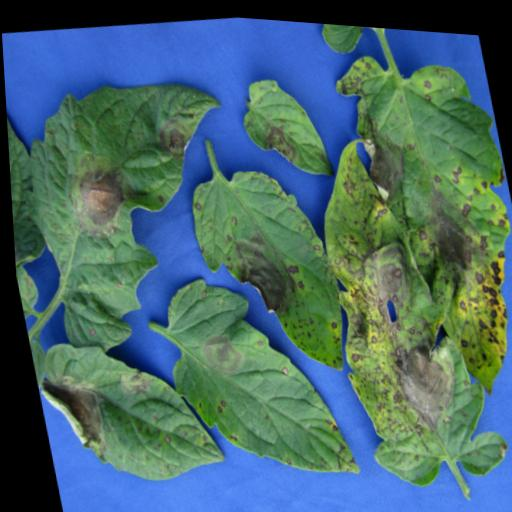Late Blight: (2, 42, 267, 358), (301, 116, 512, 512), (317, 30, 512, 405), (148, 265, 358, 495), (176, 152, 350, 382), (28, 318, 226, 492), (230, 66, 330, 183)
